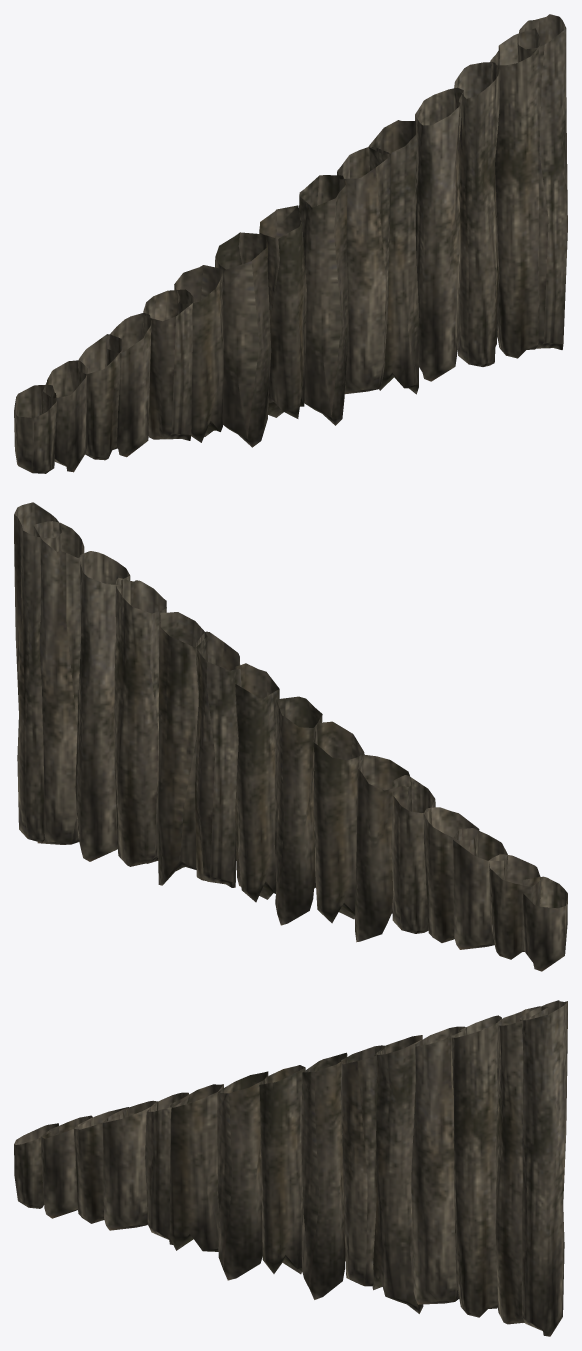
Rendered from cabinpiece.FBX.
3 views of the same model, one above another, from view 1: azimuth 30°, elevation 25°; view 2: azimuth 150°, elevation 25°; view 3: azimuth 330°, elevation 25° (orthographic).
Visible parts, largest first — view 1: Object2163; view 2: Object2163; view 3: Object2163.
Part boxes in pixels (<box>): Object2163: <box>14,14,567,473</box>; Object2163: <box>14,502,567,971</box>; Object2163: <box>14,1000,567,1336</box>.
Bounding box in the file's own units: 646 × 388 × 64.65.
